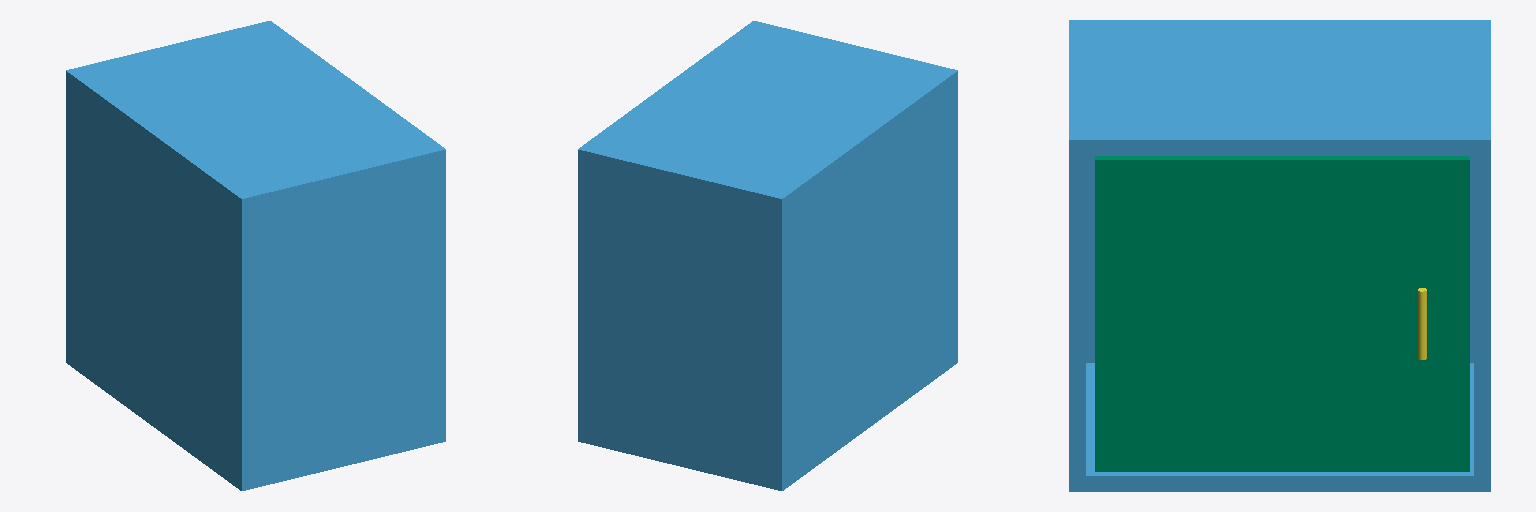
URDF robot description (my_cabinet):
<?xml version="1.0" ?>
<robot name="my_cabinet">
	<link name="world"/>
	<joint name="virtual_joint" type="fixed">
		<parent link="world"/>
		<child link="base_cabinet_link"/>
		<origin xyz="0.0 0.0 0.0" rpy="0.0 0.0 0.0"/>
	</joint>
	<link name="base_cabinet_link">
		<visual>
			<origin xyz="0.0 -0.0025 -0.195672217328074" rpy="0.0 0.0 0.0"/>
			<geometry>
				<box size="0.3 0.4469445334390521 0.018"/>
			</geometry>
		</visual>
		<collision name="base_cabinet_link_collision_0">
			<origin xyz="0.0 -0.0025 -0.195672217328074" rpy="0.0 0.0 0.0"/>
			<geometry>
				<box size="0.3 0.4469445334390521 0.018"/>
			</geometry>
		</collision>
		<visual>
			<origin xyz="0.0 0.21197226671952607 0.0" rpy="0.0 0.0 0.0"/>
			<geometry>
				<box size="0.3 0.018 0.409344434656148"/>
			</geometry>
		</visual>
		<collision name="base_cabinet_link_collision_1">
			<origin xyz="0.0 0.21197226671952607 0.0" rpy="0.0 0.0 0.0"/>
			<geometry>
				<box size="0.3 0.018 0.409344434656148"/>
			</geometry>
		</collision>
		<visual>
			<origin xyz="0.0 -0.21697226671952607 0.0" rpy="0.0 0.0 0.0"/>
			<geometry>
				<box size="0.3 0.018 0.409344434656148"/>
			</geometry>
		</visual>
		<collision name="base_cabinet_link_collision_2">
			<origin xyz="0.0 -0.21697226671952607 0.0" rpy="0.0 0.0 0.0"/>
			<geometry>
				<box size="0.3 0.018 0.409344434656148"/>
			</geometry>
		</collision>
		<visual>
			<origin xyz="0.0 -0.0025 0.195672217328074" rpy="0.0 0.0 0.0"/>
			<geometry>
				<box size="0.3 0.4469445334390521 0.018"/>
			</geometry>
		</visual>
		<collision name="base_cabinet_link_collision_3">
			<origin xyz="0.0 -0.0025 0.195672217328074" rpy="0.0 0.0 0.0"/>
			<geometry>
				<box size="0.3 0.4469445334390521 0.018"/>
			</geometry>
		</collision>
		<visual>
			<origin xyz="-0.141 -0.0025 0.0" rpy="0.0 0.0 0.0"/>
			<geometry>
				<box size="0.018 0.4469445334390521 0.409344434656148"/>
			</geometry>
		</visual>
		<collision name="base_cabinet_link_collision_4">
			<origin xyz="-0.141 -0.0025 0.0" rpy="0.0 0.0 0.0"/>
			<geometry>
				<box size="0.018 0.4469445334390521 0.409344434656148"/>
			</geometry>
		</collision>
		<inertial>
			<mass value="0.200000"/>
			<inertia ixx="0.006122" ixy="0.0" ixz="0.0" iyy="0.004293" iyz="0.0" izz="0.004829"/>
		</inertial>
	</link>
	<link name="door_link">
		<visual>
			<origin xyz="0.0 -0.19797226671952606 0.0"/>
			<geometry>
				<box size="0.018 0.3959445334390521 0.36334443465614796"/>
			</geometry>
		</visual>
		<collision name="door_link_collision">
			<origin xyz="0.0 -0.19797226671952606 0.0"/>
			<geometry>
				<box size="0.018 0.3959445334390521 0.36334443465614796"/>
			</geometry>
		</collision>
		<inertial>
			<mass value="0.200000"/>
			<inertia ixx="0.004813" ixy="0.0" ixz="0.0" iyy="0.002206" iyz="0.0" izz="0.002618"/>
		</inertial>
	</link>
	<joint name="door_joint" type="revolute">
		<origin xyz="0.141 -0.19797226671952606 0.0" rpy="0.000000 -0.000000 3.141593"/>
		<axis xyz="0 0 1"/>
		<parent link="base_cabinet_link"/>
		<child link="door_link"/>
		<limit effort="50" lower="-1.658062789394613" upper="0" velocity="10"/>
		<dynamics friction="3.5" damping="3.5"/>
	</joint>
	<link name="handle_link">
		<visual>
			<origin xyz="0.0 0.0 0.0" rpy="0.0 0.0 0.0"/>
			<geometry>
				<cylinder length="0.08" radius="0.005"/>
			</geometry>
		</visual>
		<collision name="handle_link_collision_0">
			<origin xyz="0.0 0.0 0.0" rpy="0.0 0.0 0.0"/>
			<geometry>
				<cylinder length="0.08" radius="0.005"/>
			</geometry>
		</collision>
		<visual>
			<origin xyz="-0.01 0.0 0.02" rpy="0.0 1.5707963267948966 0.0"/>
			<geometry>
				<cylinder length="0.02" radius="0.003"/>
			</geometry>
		</visual>
		<collision name="handle_link_collision_1">
			<origin xyz="-0.01 0.0 0.02" rpy="0.0 1.5707963267948966 0.0"/>
			<geometry>
				<cylinder length="0.01" radius="0.003"/>
			</geometry>
		</collision>
		<visual>
			<origin xyz="-0.01 0.0 -0.02" rpy="0.0 1.5707963267948966 0.0"/>
			<geometry>
				<cylinder length="0.02" radius="0.003"/>
			</geometry>
		</visual>
		<collision name="handle_link_collision_2">
			<origin xyz="-0.01 0.0 -0.02" rpy="0.0 1.5707963267948966 0.0"/>
			<geometry>
				<cylinder length="0.02" radius="0.003"/>
			</geometry>
		</collision>
		<inertial>
			<mass value="0.050000"/>
			<inertia ixx="0.000027" ixy="0.0" ixz="0.0" iyy="0.000029" iyz="0.0" izz="0.000003"/>
		</inertial>
	</link>
	<joint name="handle_joint" type="fixed">
		<origin xyz="-0.028999999999999998 -0.3459445334390521 0.0" rpy="0.000000 -0.000000 3.141593"/>
		<parent link="door_link"/>
		<child link="handle_link"/>
	</joint>
	<gazebo reference="base_cabinet_link">
		<sensor name="main_sensor" type="contact">
			<selfCollide>true</selfCollide>
			<alwaysOn>true</alwaysOn>
			<updateRate>5.0</updateRate>
			<material>Gazebo/Red</material>
			<contact>
				<collision>base_cabinet_link_collision_0_collision</collision>
				<collision>base_cabinet_link_collision_1_collision</collision>
				<collision>base_cabinet_link_collision_2_collision</collision>
				<collision>base_cabinet_link_collision_3_collision</collision>
				<collision>base_cabinet_link_collision_4_collision</collision>
			</contact>
			<plugin name="gazebo_ros_bumper_controller" filename="libgazebo_ros_bumper.so">
				<bumperTopicName>/contact</bumperTopicName>
				<frameName>world</frameName>
			</plugin>
		</sensor>
	</gazebo>
	<gazebo reference="door_link">
		<sensor name="main_sensor" type="contact">
			<selfCollide>true</selfCollide>
			<alwaysOn>true</alwaysOn>
			<updateRate>5.0</updateRate>
			<material>Gazebo/Red</material>
			<contact>
				<collision>door_link_collision_collision</collision>
			</contact>
			<plugin name="gazebo_ros_bumper_controller" filename="libgazebo_ros_bumper.so">
				<bumperTopicName>/contact_door</bumperTopicName>
				<frameName>contact_door</frameName>
			</plugin>
		</sensor>
	</gazebo>
	<gazebo reference="door_link">
		<mu>3.0</mu>
		<mu2>3.0</mu2>
		<kp>10000000</kp>
		<kd>100</kd>
	</gazebo>
</robot>

--- Facts derived from the render (not from the file) ---
Views: 3 orthographic renders of the robot side by side, from view 1: azimuth 30°, elevation 25°; view 2: azimuth 150°, elevation 25°; view 3: azimuth 270°, elevation 25°.
Model my_cabinet with 4 links and 3 joints (1 revolute, 2 fixed), rooted at world, posed every joint at zero.
Links seen in each view (by area): view 1: base_cabinet_link; view 2: base_cabinet_link; view 3: door_link, base_cabinet_link, handle_link.
Boxes of the visible links, x1,y1,x2,y2 form: base_cabinet_link: [66, 21, 445, 490]; base_cabinet_link: [578, 21, 957, 490]; door_link: [1095, 156, 1469, 471]; base_cabinet_link: [1069, 20, 1490, 491]; handle_link: [1418, 288, 1426, 359].
Size in the robot's own frame: 0.325 by 0.4469 by 0.4093 metres.
Geometry: primitives only (box / cylinder / sphere), no mesh files.
